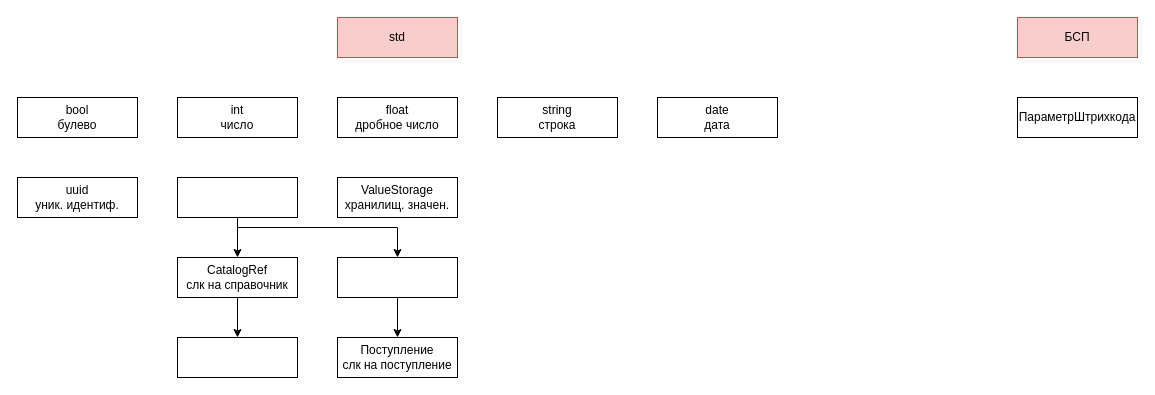
This 1155x395 diagram has some shape labels left out. Each missing label, with the centre of its shape:
"DocumentRef слк на документ" goes at point 397,277.
"ref любая ссылка" goes at point 237,197.
"Номенклатура слк на номенклатуру" goes at point 237,357.
